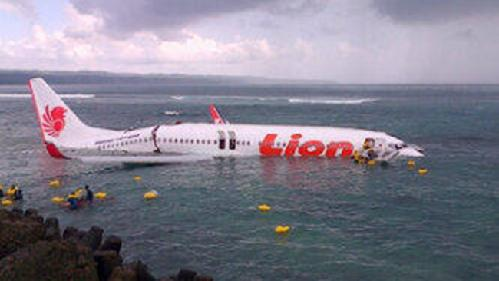airplane: (18, 78, 427, 173)
